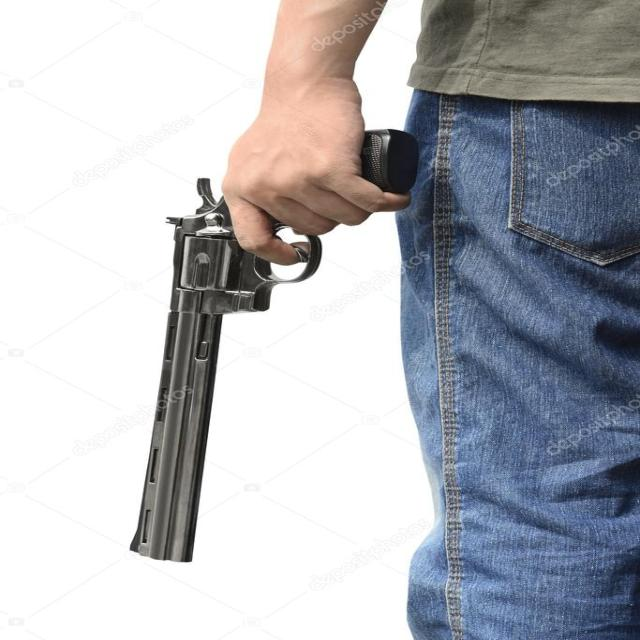HandGun: (130, 179, 324, 565)
